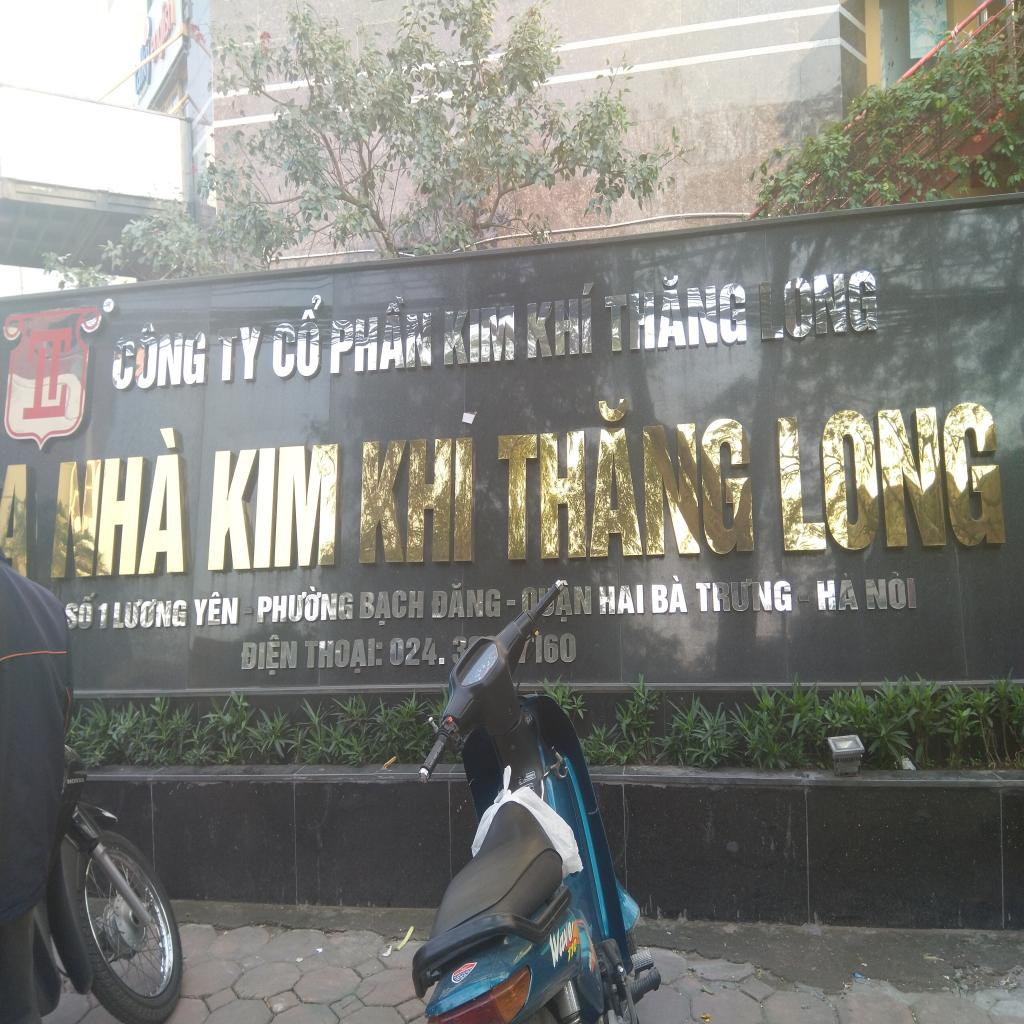text: (496, 389, 754, 561), (777, 400, 1007, 552), (49, 426, 186, 580), (207, 442, 340, 572), (358, 436, 474, 564), (602, 268, 747, 354), (759, 268, 879, 342), (330, 293, 433, 375), (110, 318, 208, 392), (525, 280, 596, 360), (21, 326, 74, 422), (443, 303, 516, 367), (272, 292, 322, 380), (256, 584, 354, 624), (695, 577, 793, 613), (0, 462, 28, 580), (302, 636, 384, 676), (217, 324, 264, 383), (430, 582, 501, 619), (111, 598, 189, 631), (238, 634, 299, 676), (358, 590, 425, 627), (389, 635, 467, 666), (148, 0, 178, 74), (864, 577, 918, 611), (553, 578, 593, 622), (192, 591, 240, 627), (546, 917, 576, 970), (650, 574, 689, 614), (816, 578, 860, 611), (535, 630, 577, 664), (598, 584, 644, 614), (65, 592, 97, 631), (136, 32, 151, 94), (521, 586, 538, 614), (96, 602, 108, 631), (567, 937, 577, 963), (105, 300, 113, 310), (588, 960, 592, 972)
